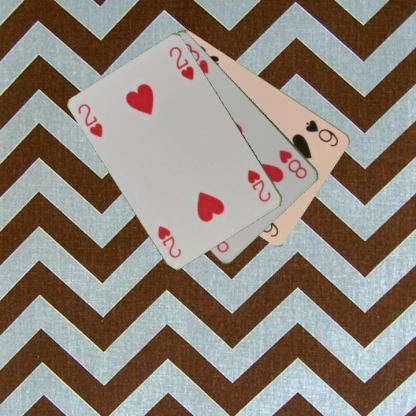2h: (75, 101, 105, 139), (245, 167, 273, 203)
6s: (303, 116, 340, 148)
8h: (276, 147, 309, 181)
